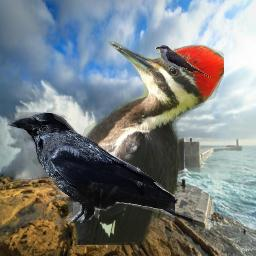Crow: (7, 112, 175, 223)
Cuckoo: (155, 45, 212, 79)
Woodpecker: (38, 41, 224, 245)
